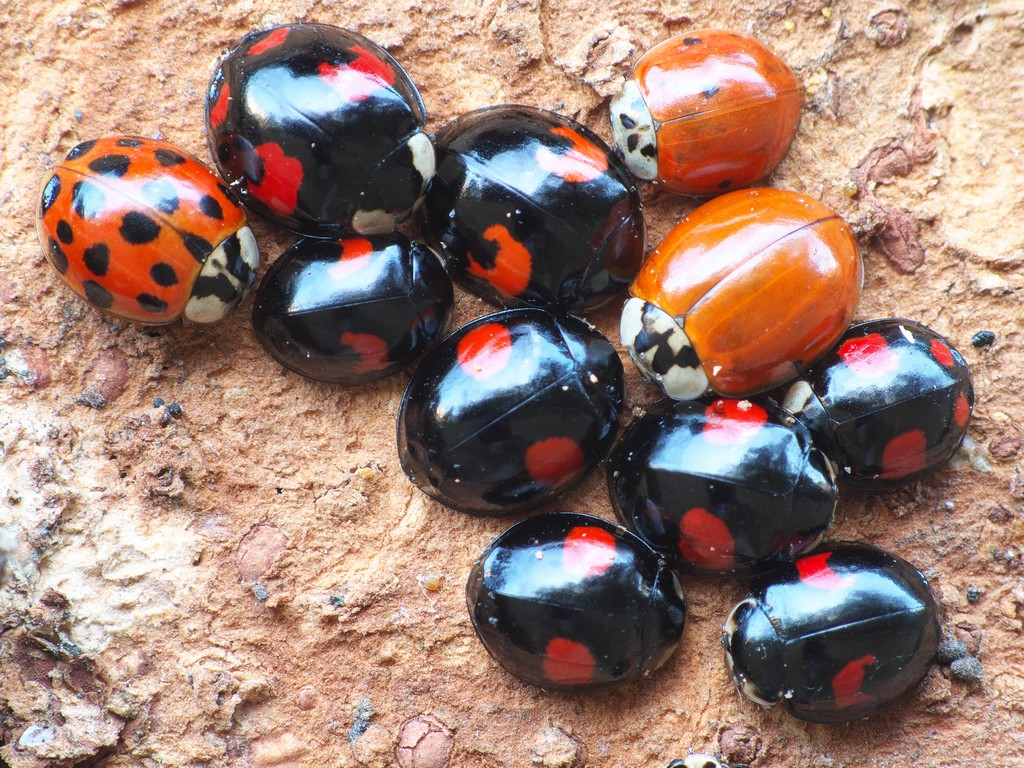red: (630, 188, 870, 399), (37, 132, 262, 323), (609, 25, 806, 201)
two_spots: (392, 309, 621, 517), (435, 107, 647, 316), (607, 399, 836, 582), (463, 520, 683, 698), (737, 539, 936, 728), (259, 226, 457, 386)
two_spots_mutant: (205, 18, 438, 238), (789, 319, 971, 490)
